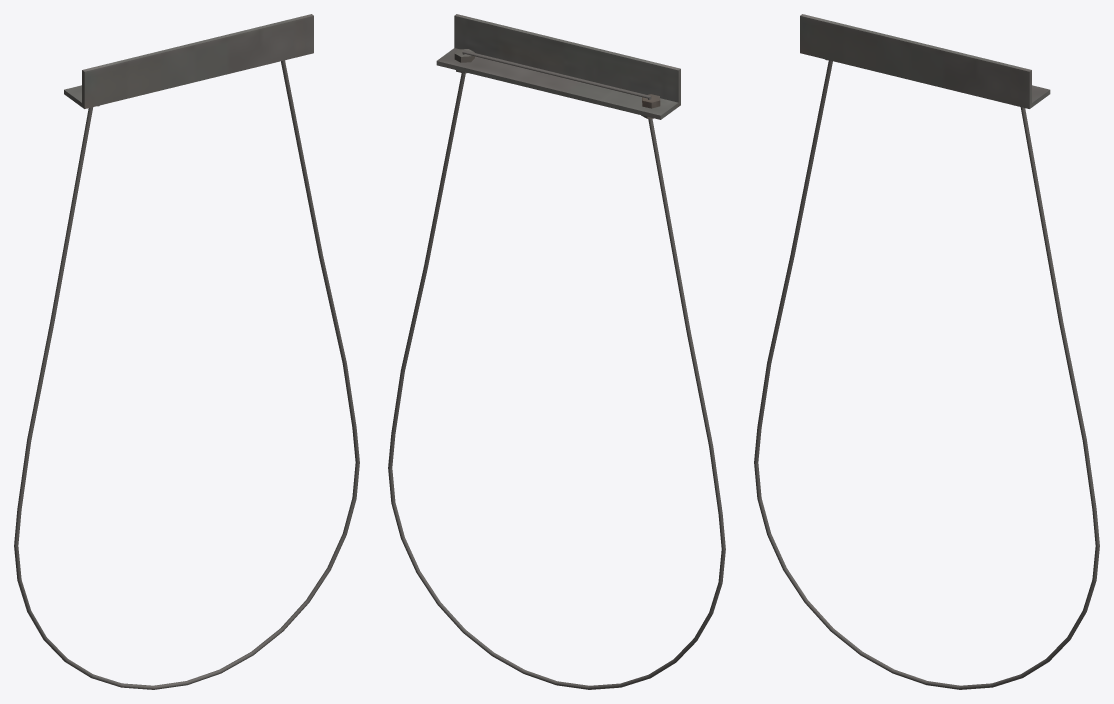
File: circular_brace.gltf
3 renders of one model, left to right at view 1: azimuth 30°, elevation 25°; view 2: azimuth 150°, elevation 25°; view 3: azimuth 330°, elevation 25°, orthographic. The views are drawn at different scales.
Parts seen in each view (by area): view 1: circular_brace; view 2: circular_brace; view 3: circular_brace.
Part boxes in pixels (x1,y1,x2,y2): circular_brace: (14,14,359,689); circular_brace: (388,14,725,689); circular_brace: (754,14,1099,689).
Bounding box in the file's own units: 0.3736 × 0.6723 × 0.0387.
Materials: 1 (1 with a texture image).
